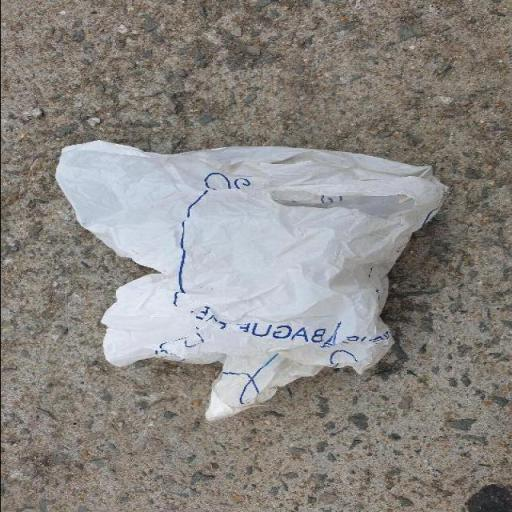plastic-bag: (53, 138, 449, 421)
